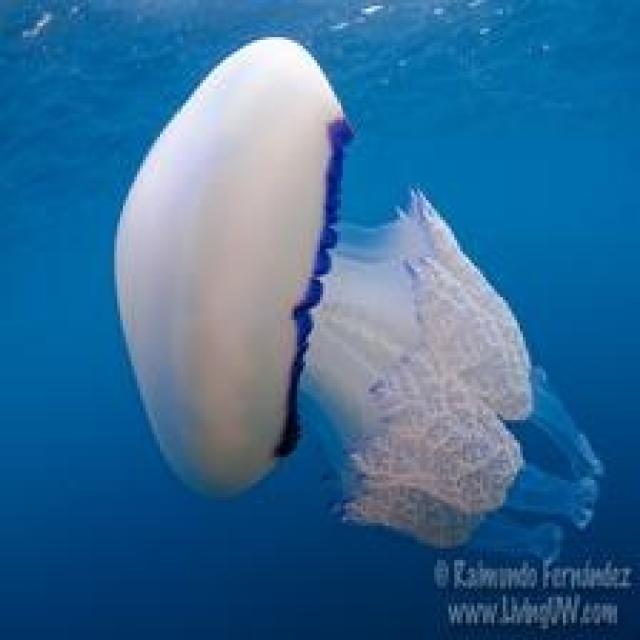Human: (111, 32, 603, 557)
